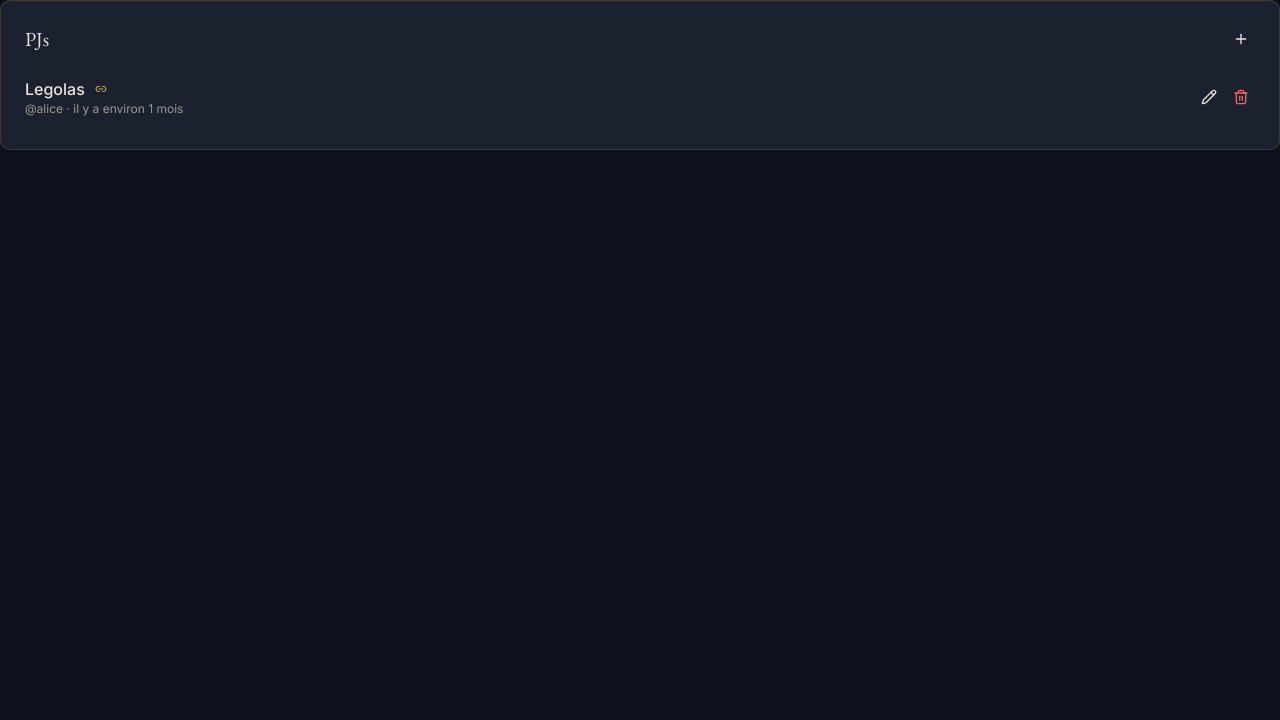
Test case: <CampaignPjsCard> › clicking a row Éditer button opens the edit dialog prefilled
The width and height of the screenshot is (1280, 720).
Step 1. Click the button named "Éditer le PJ Legolas" → (1209, 97), box [1195,83,1223,111]
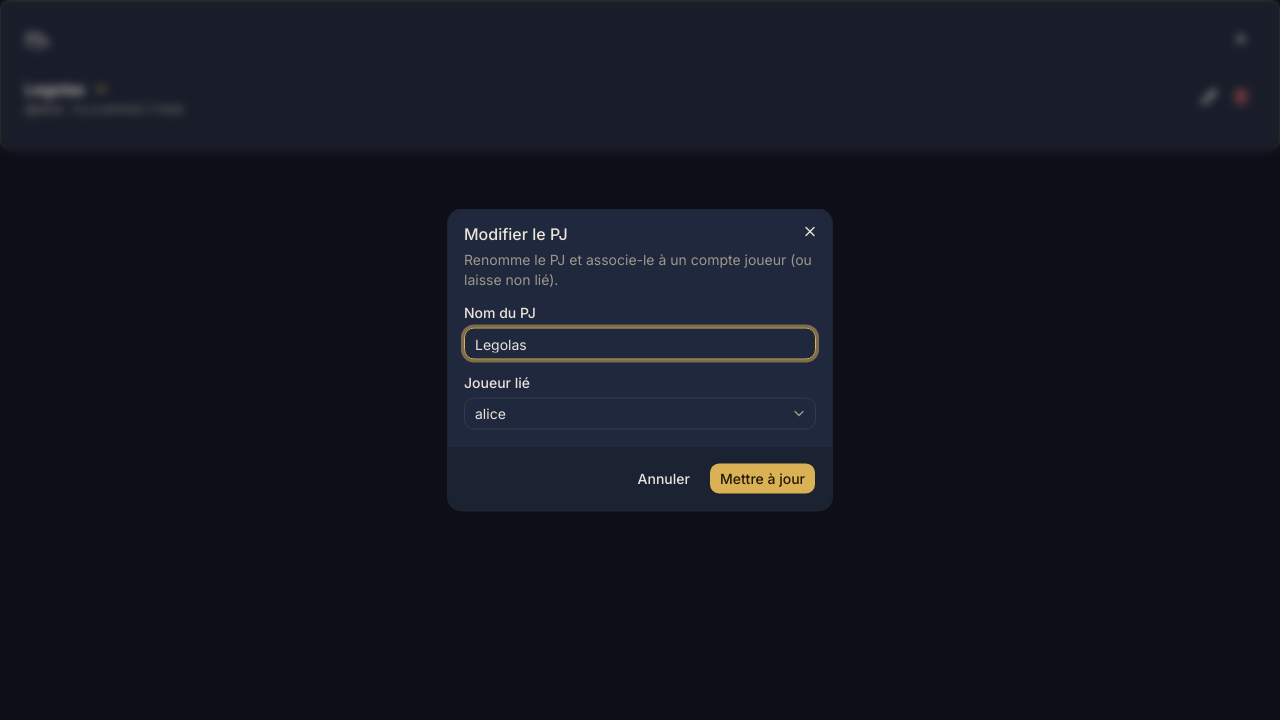
Check: the heading "Modifier le PJ" is shown, box [464,224,568,244]
Check: the field labelled "Nom du PJ" holds "Legolas", box [464,328,816,360]
Check: the dropdown named "Joueur lié" shows "alice", box [464,398,816,430]
